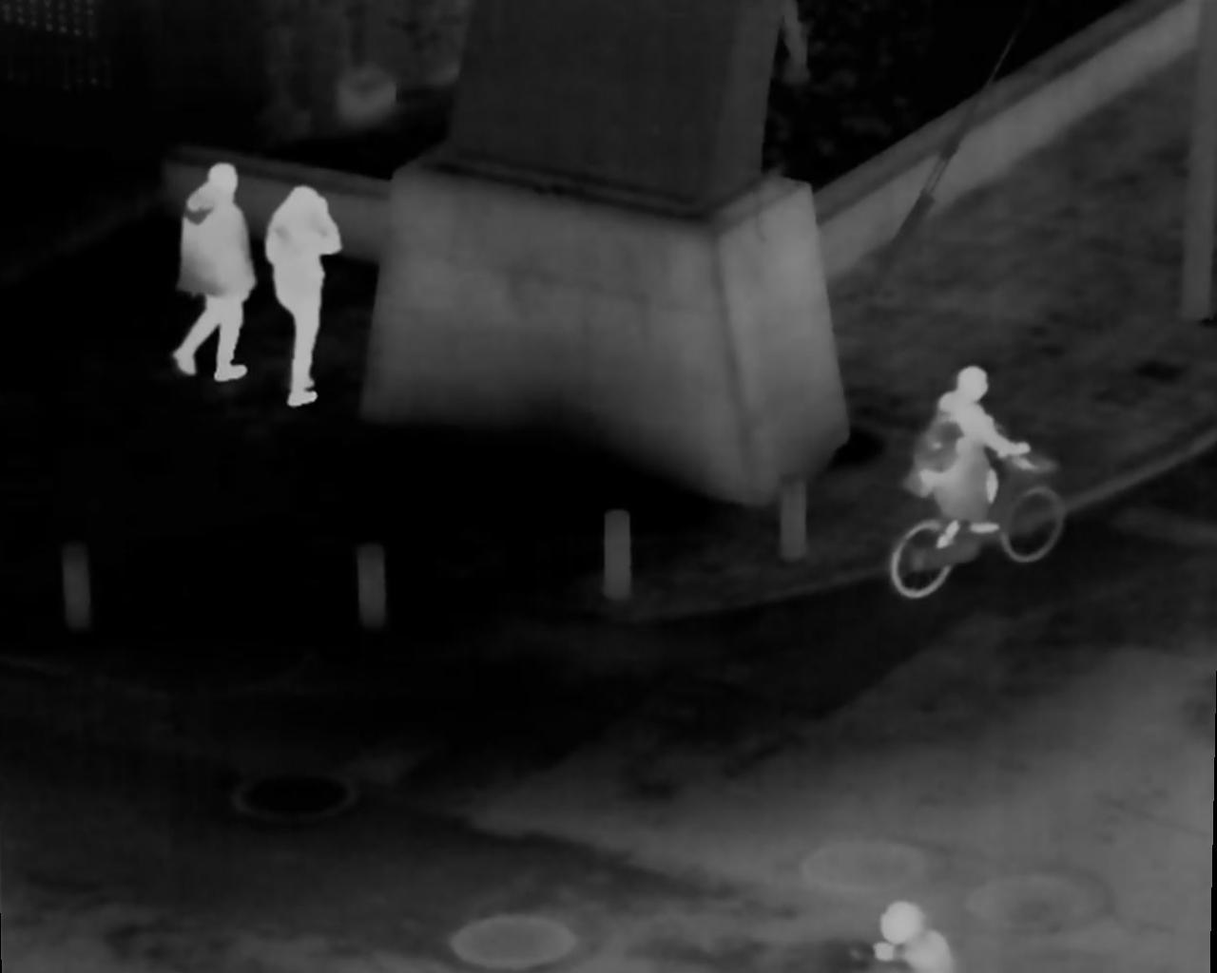person: (914, 364, 1029, 555), (168, 164, 263, 376), (270, 190, 342, 410), (861, 902, 960, 973)
